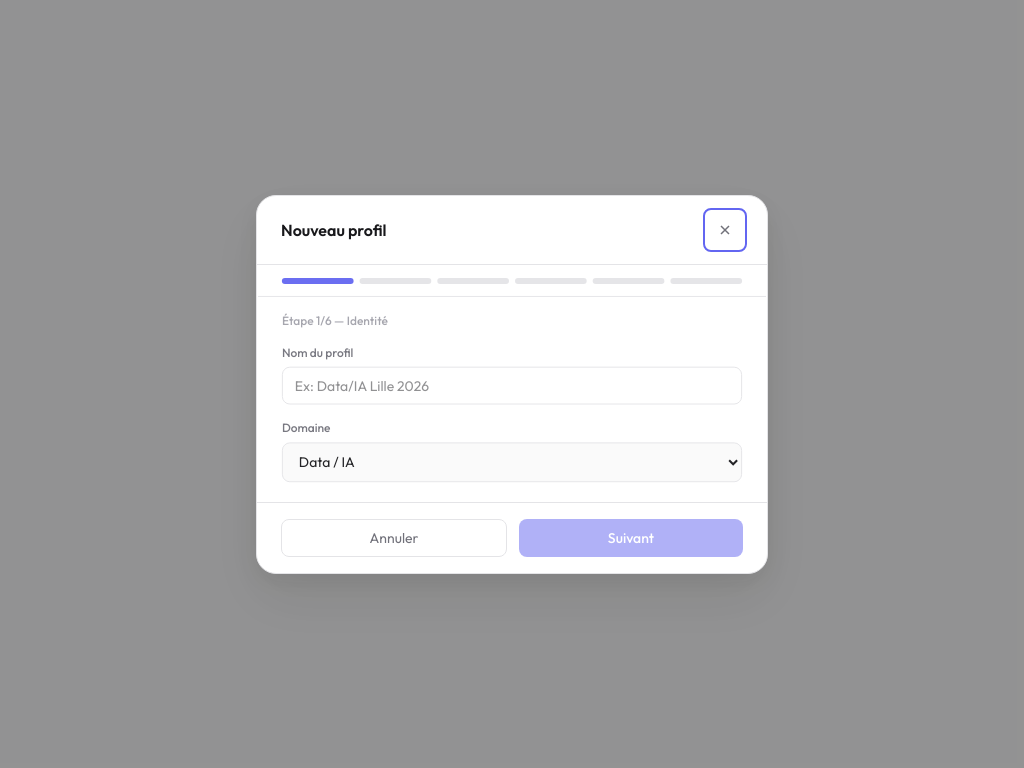
WizardModal › disables "Suivant" on step 1 until a name is entered
Check: the button "Suivant" is disabled, box [519,518,743,556]
Type "Mon profil" into the field with placeholder "Ex: Data/IA Lille 2026" at point(512, 385), box [282,366,742,404]
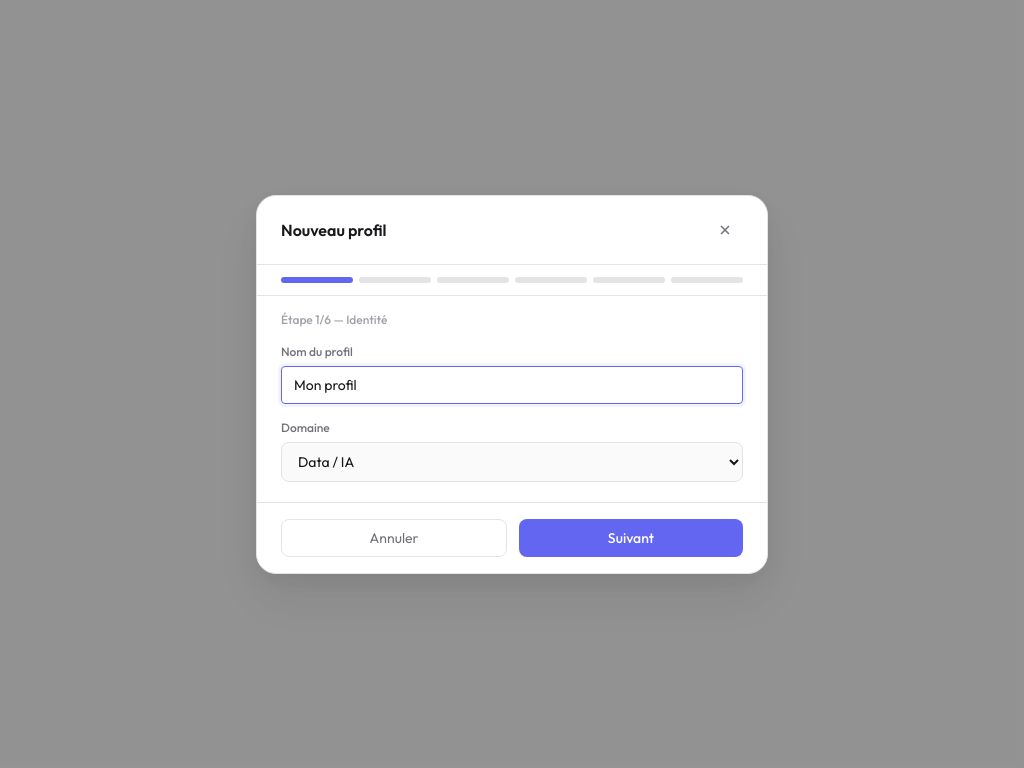
Check: the button "Suivant" is enabled, box [519,518,743,556]
